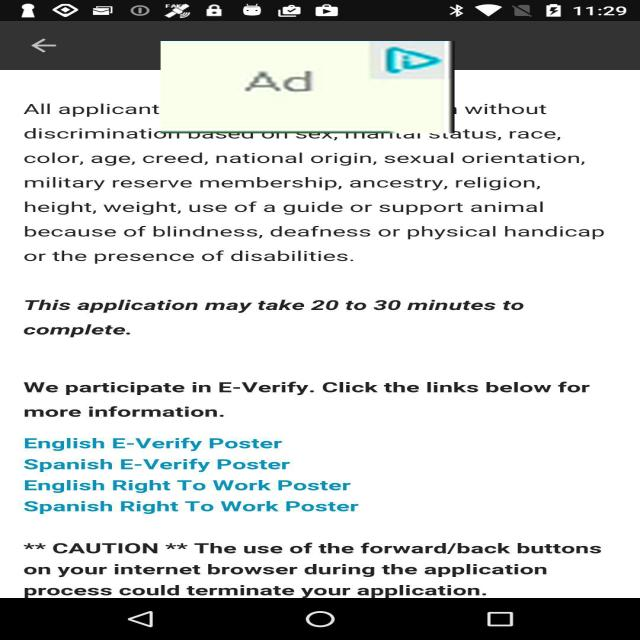sneaking: (160, 41, 454, 133)
